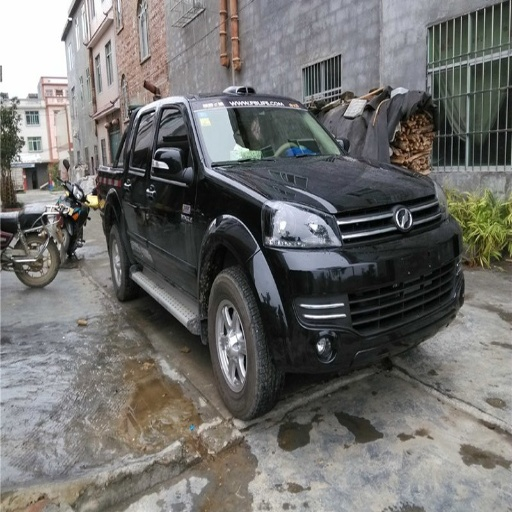front_bumper: (254, 197, 460, 368)
front_right_door: (150, 103, 193, 295)
front_right_light: (266, 201, 337, 249)
